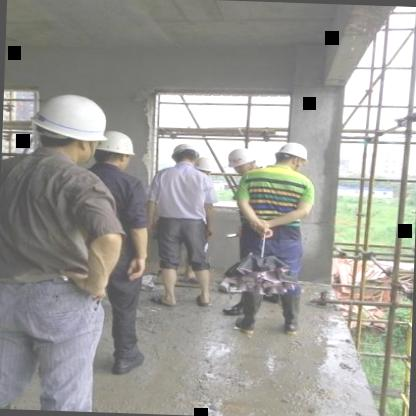helmet: (26, 86, 116, 166), (94, 126, 146, 178), (274, 135, 314, 176), (227, 146, 261, 178), (171, 141, 200, 168), (194, 155, 219, 181)
